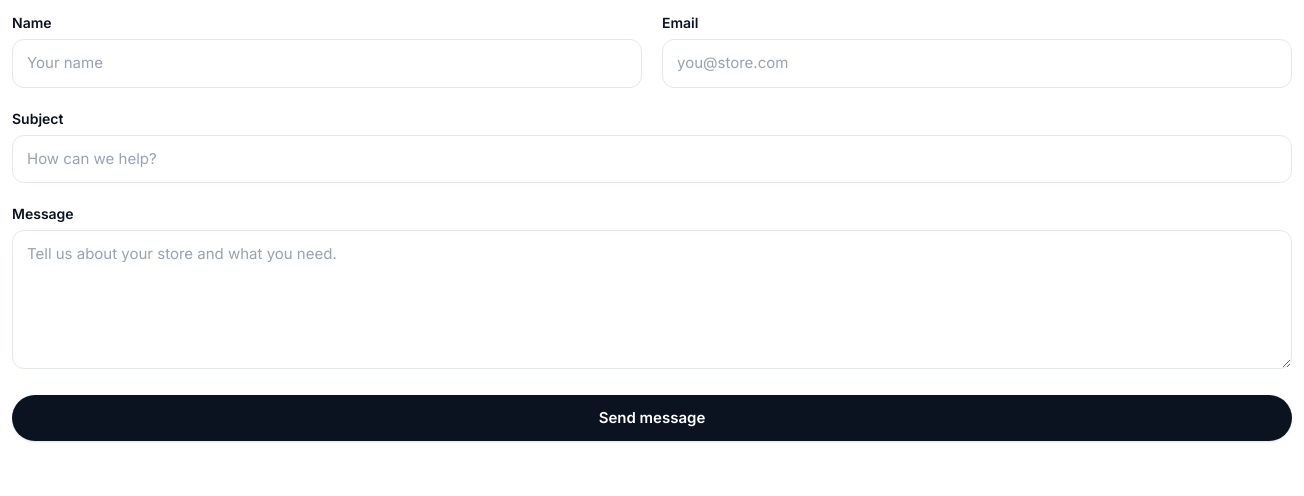
it: ContactForm › shows the success message after a successful submit
The width and height of the screenshot is (1304, 496).
Type "Sam" into the field labelled "Name" at [327, 63], box [12,39,642,88]
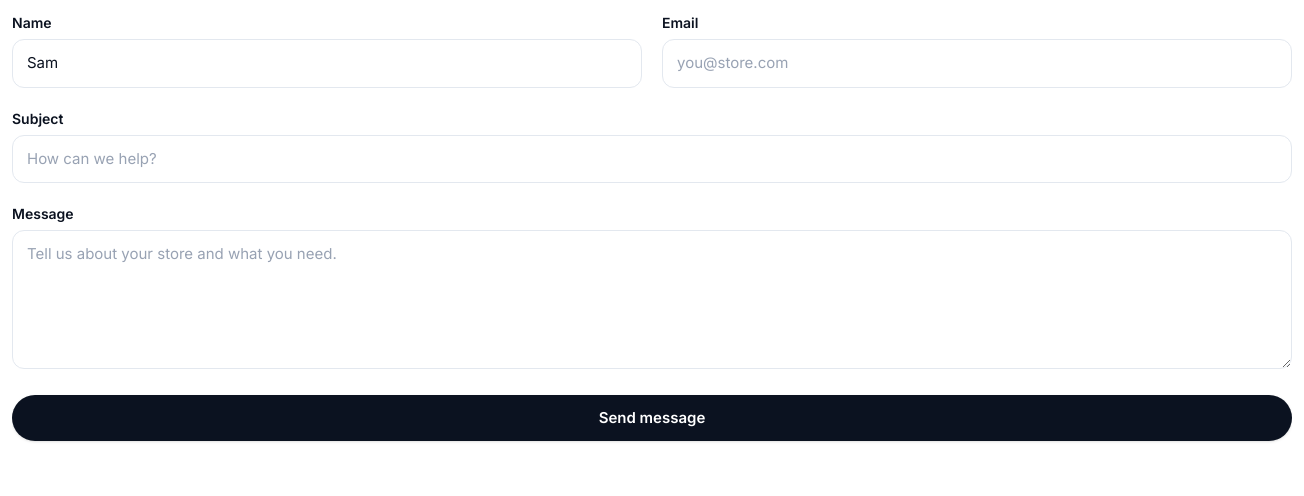
Type "sam@example.com" into the field labelled "Email" at [977, 63], box [662,39,1292,88]
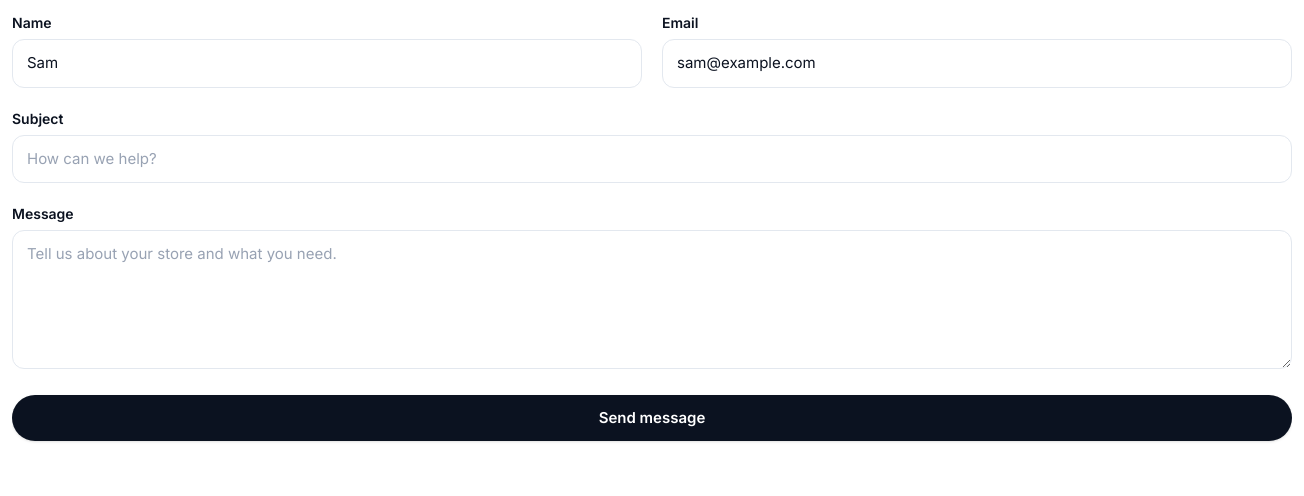
Type "Hi" into the field labelled "Subject" at [652, 159], box [12,134,1292,183]
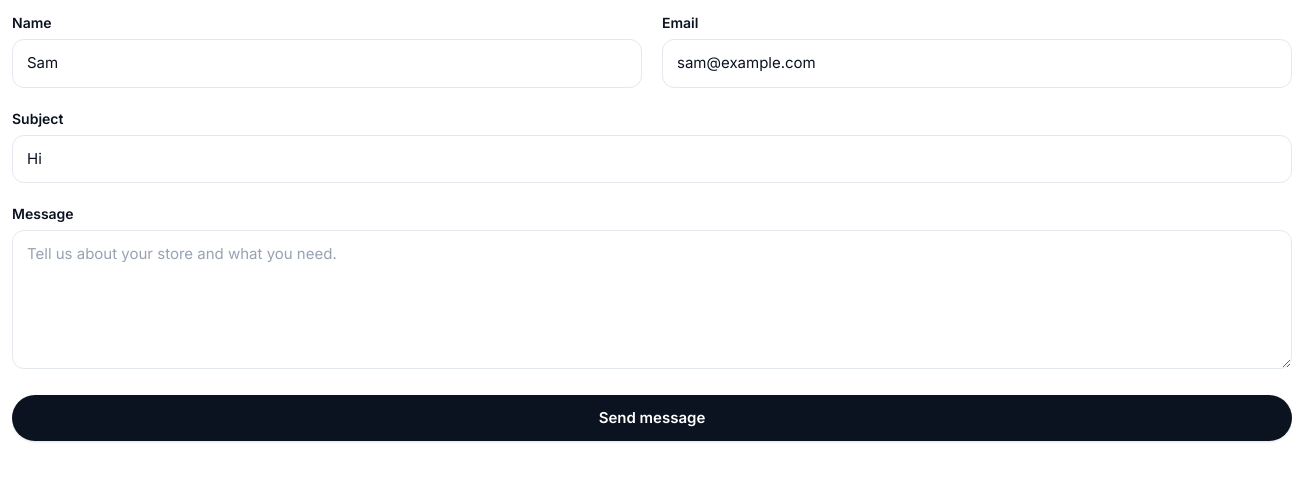
Type "I want to start a brand." into the text box labelled "Message" at [652, 299], box [12,230,1292,368]
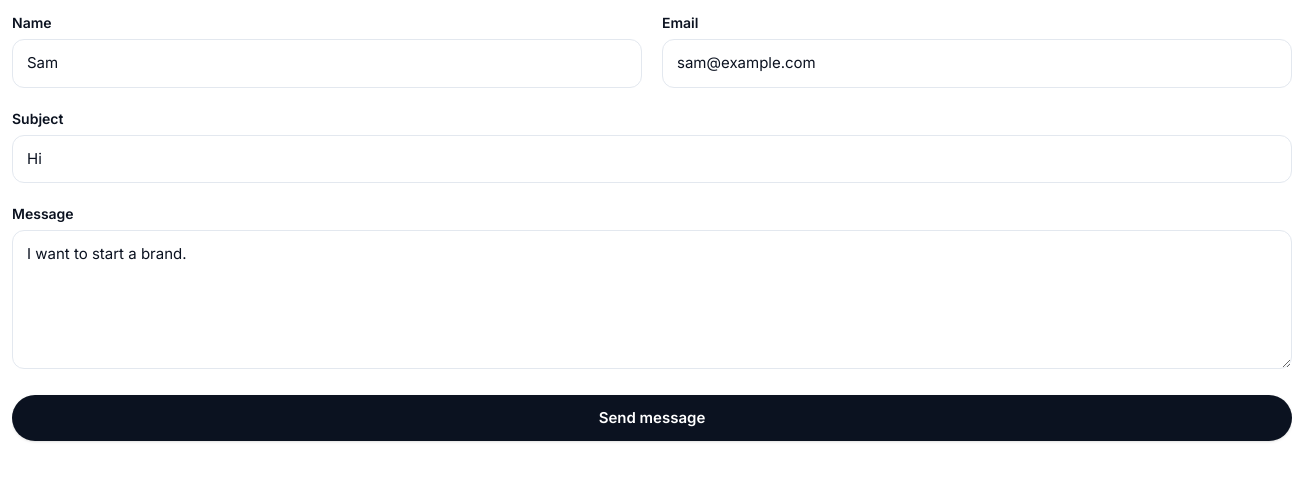
Click the button "Send message" at [652, 418], box [12,394,1292,441]
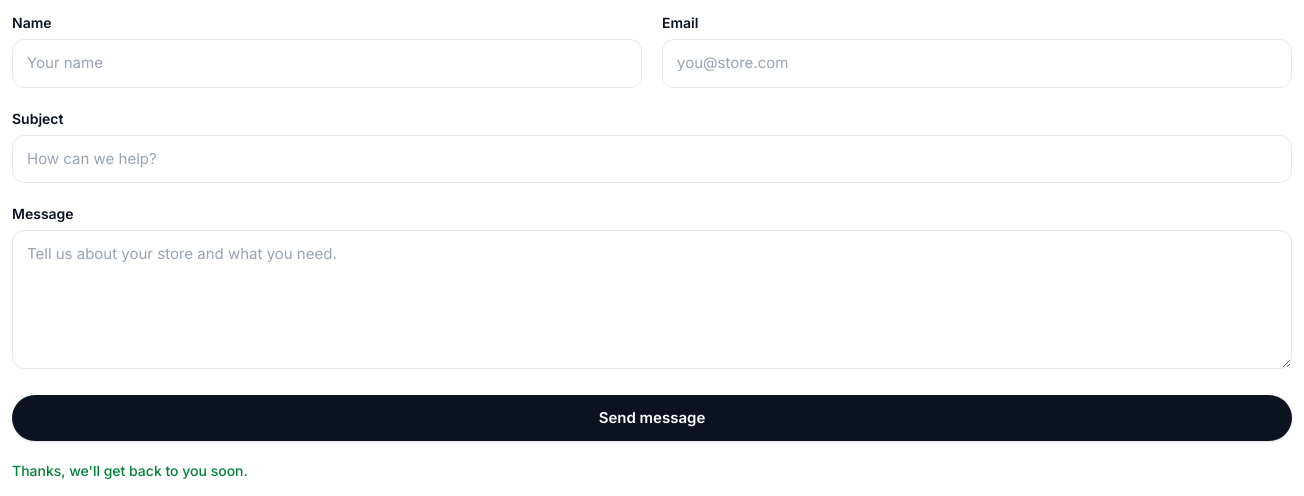
Expected: the text "Thanks, we'll get back to you soon." is shown, [12,462,248,479]
